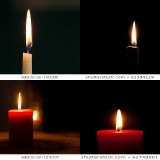fire: (25, 7, 34, 48), (129, 19, 139, 45), (113, 108, 124, 129), (17, 91, 22, 109), (33, 110, 37, 118)
